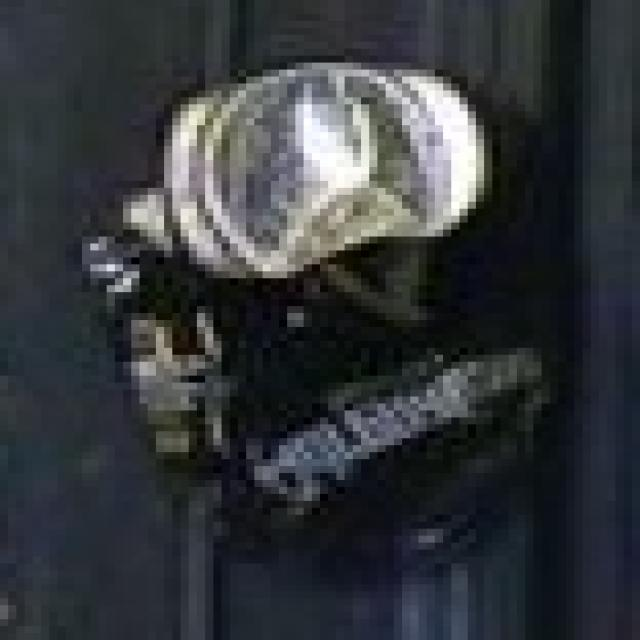litter: (57, 58, 618, 612)
